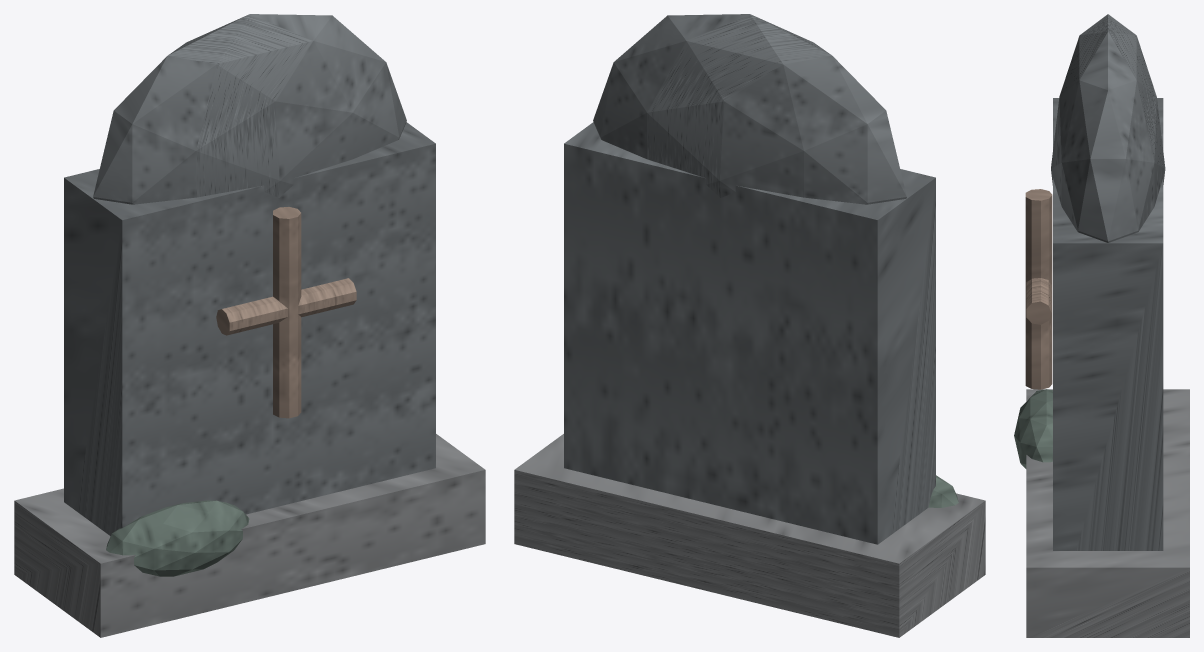
File: tombstone.glb
3 views of the same model, side by side, from view 1: azimuth 30°, elevation 25°; view 2: azimuth 150°, elevation 25°; view 3: azimuth 270°, elevation 25° (orthographic). The views are drawn at different scales.
Visible parts, largest first — view 1: stone, stone2, bronze, moss; view 2: stone, stone2; view 3: stone, stone2, bronze, moss.
Boxes of the visible parts, x1,y1,x2,y2 form: stone: [64, 14, 435, 535]; stone2: [14, 434, 485, 637]; bronze: [216, 207, 356, 418]; moss: [106, 500, 249, 576]; stone: [564, 14, 935, 544]; stone2: [514, 434, 985, 637]; stone: [1051, 14, 1165, 550]; stone2: [1026, 389, 1189, 637]; bronze: [1025, 189, 1052, 389]; moss: [1014, 389, 1052, 468].
Bounding box in the file's own units: 1.03 × 1.42 × 0.43.
Materials: 4 (4 with a texture image).
